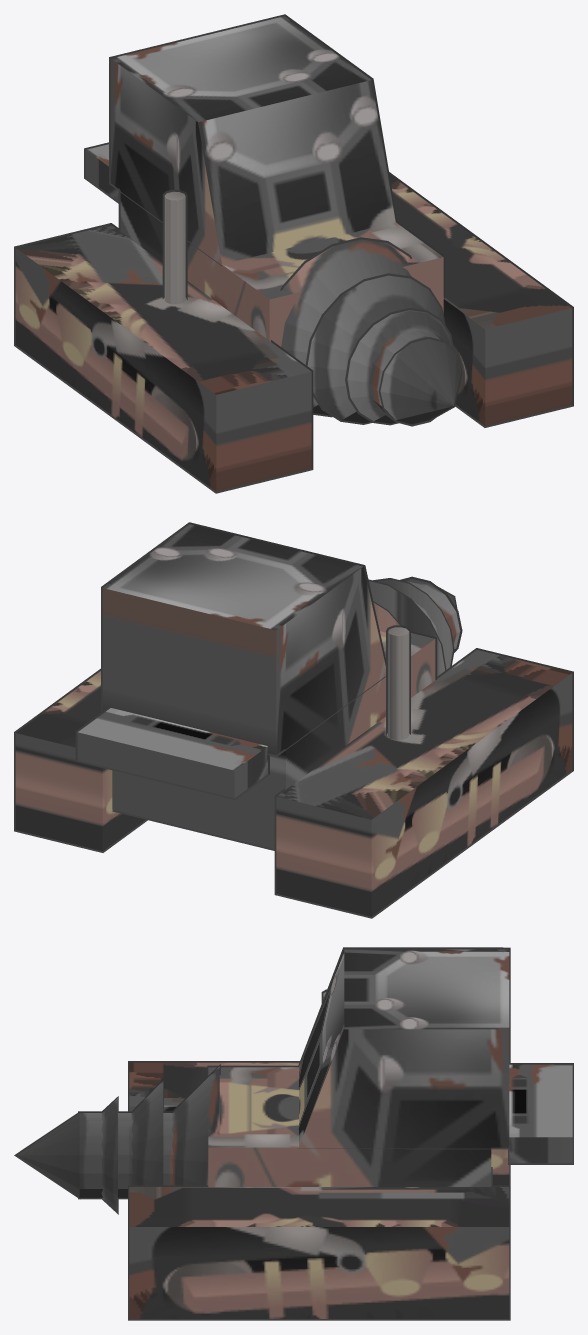
File: Building_AncientExcavator.glb
The picture shows the model from 3 angles, top to bottom: view 1: azimuth 30°, elevation 25°; view 2: azimuth 150°, elevation 25°; view 3: azimuth 270°, elevation 25°; orthographic projection. The views are drawn at different scales.
Parts seen in each view (by area): view 1: AncientExcavator, Outline; view 2: AncientExcavator, Outline; view 3: AncientExcavator, Outline.
Boxes of the visible parts, <box> form: AncientExcavator: <box>15,16,572,491</box>; Outline: <box>14,14,573,493</box>; AncientExcavator: <box>15,524,572,916</box>; Outline: <box>14,522,573,918</box>; AncientExcavator: <box>16,949,572,1318</box>; Outline: <box>14,947,573,1320</box>.
Size of the model in its own units: 2.7 by 1.92 by 3.87.
2 materials, 1 textured.
